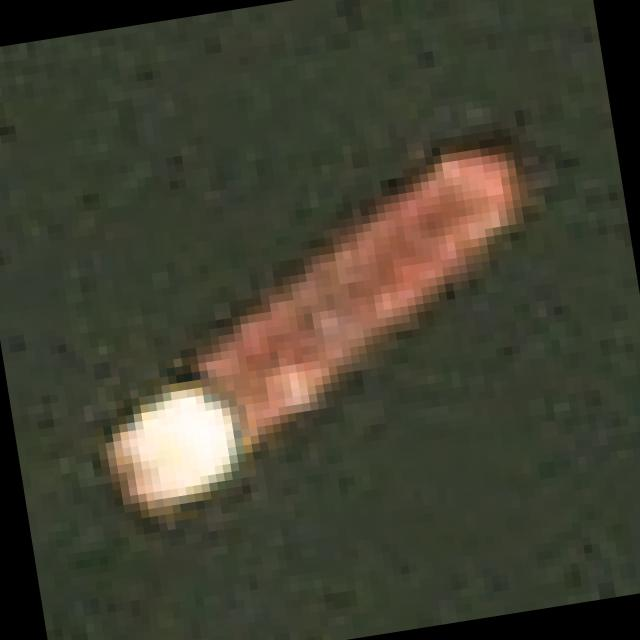ship: (44, 104, 613, 568)
